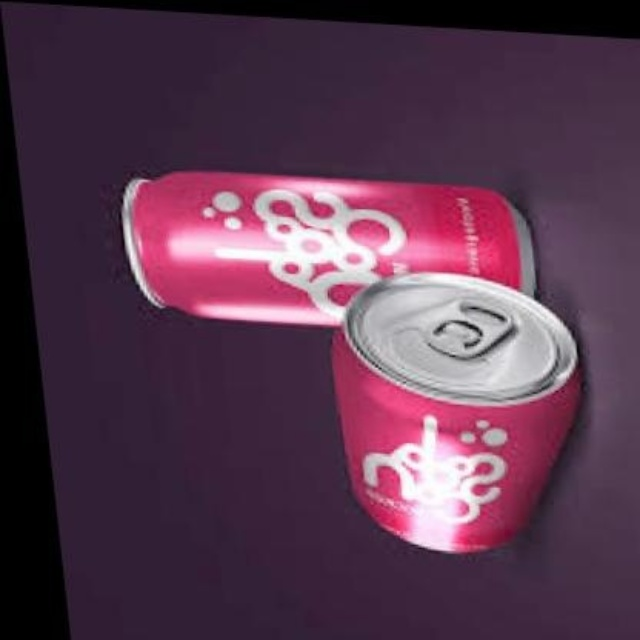trash: (123, 172, 578, 551), (334, 272, 578, 551), (123, 172, 534, 325)
